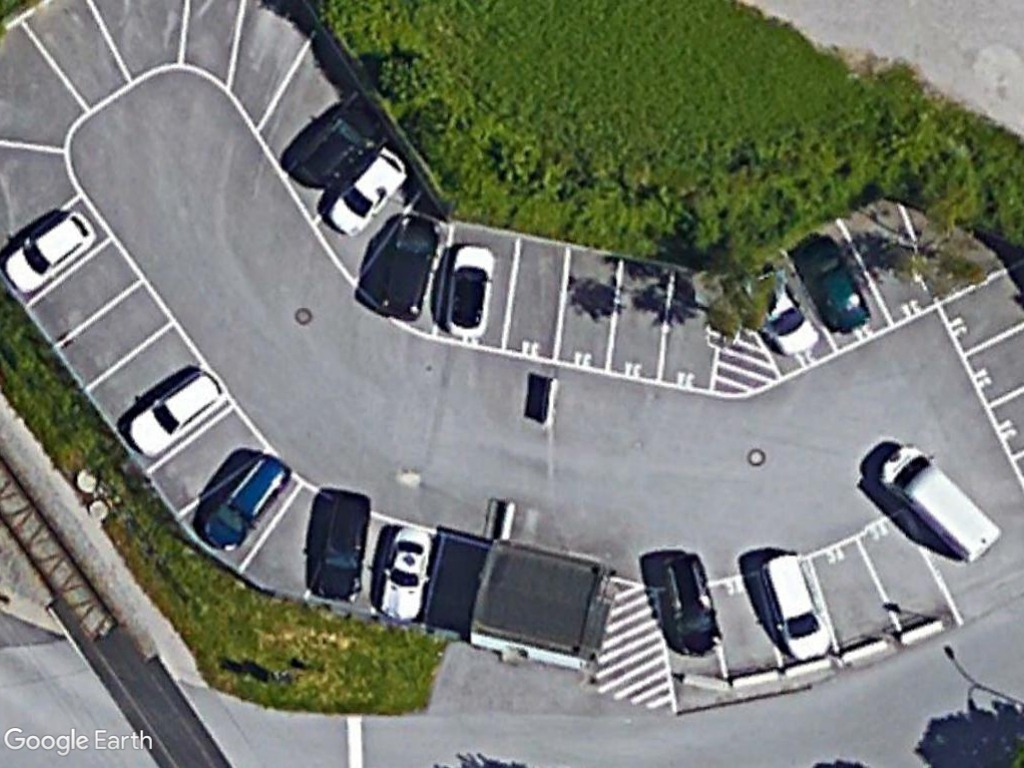car: (198, 445, 295, 559), (124, 360, 232, 462), (756, 541, 835, 665), (2, 201, 95, 303), (322, 147, 411, 242), (652, 548, 723, 659), (308, 484, 372, 604), (376, 207, 442, 321), (375, 518, 436, 627)
van: (869, 440, 1005, 572)
